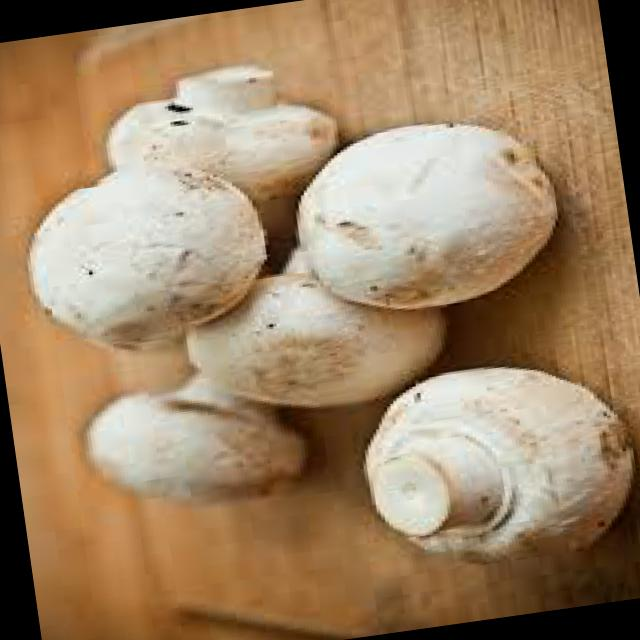Agaricus bisporus: (350, 346, 640, 576), (282, 109, 568, 322), (173, 230, 444, 428), (12, 149, 274, 353), (87, 49, 337, 201), (80, 358, 294, 518)
